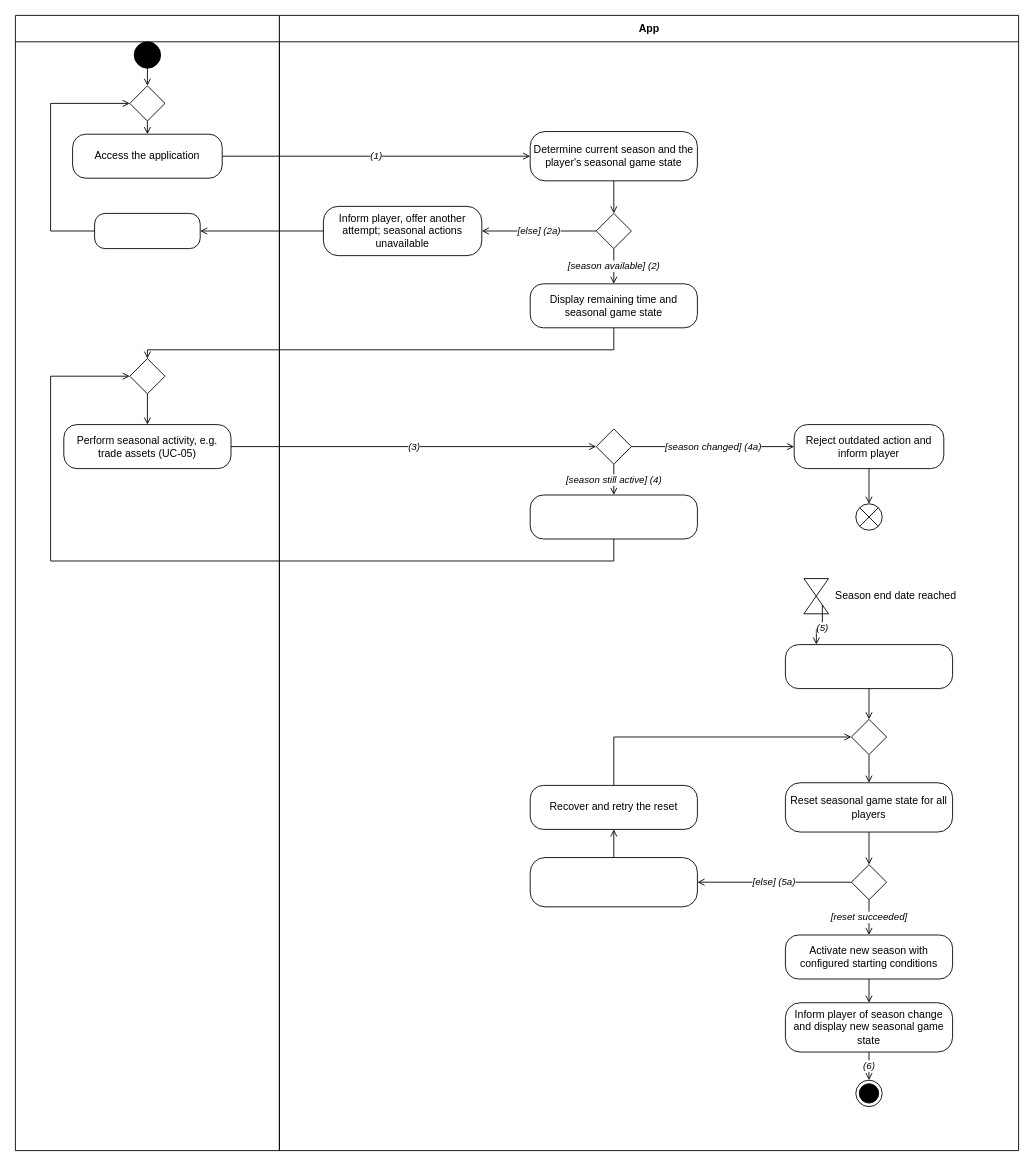
Image size: 1034x1166. Some labels were removed from this diagram. Each missing label, with the box of its shape:
End current season; block seasonal actions: (785, 644, 953, 689)
Inform players that the season change is in progress: (529, 857, 697, 907)
Player: (15, 15, 279, 1151)
Retry: (94, 213, 200, 249)
Update seasonal game state: (529, 494, 697, 539)
